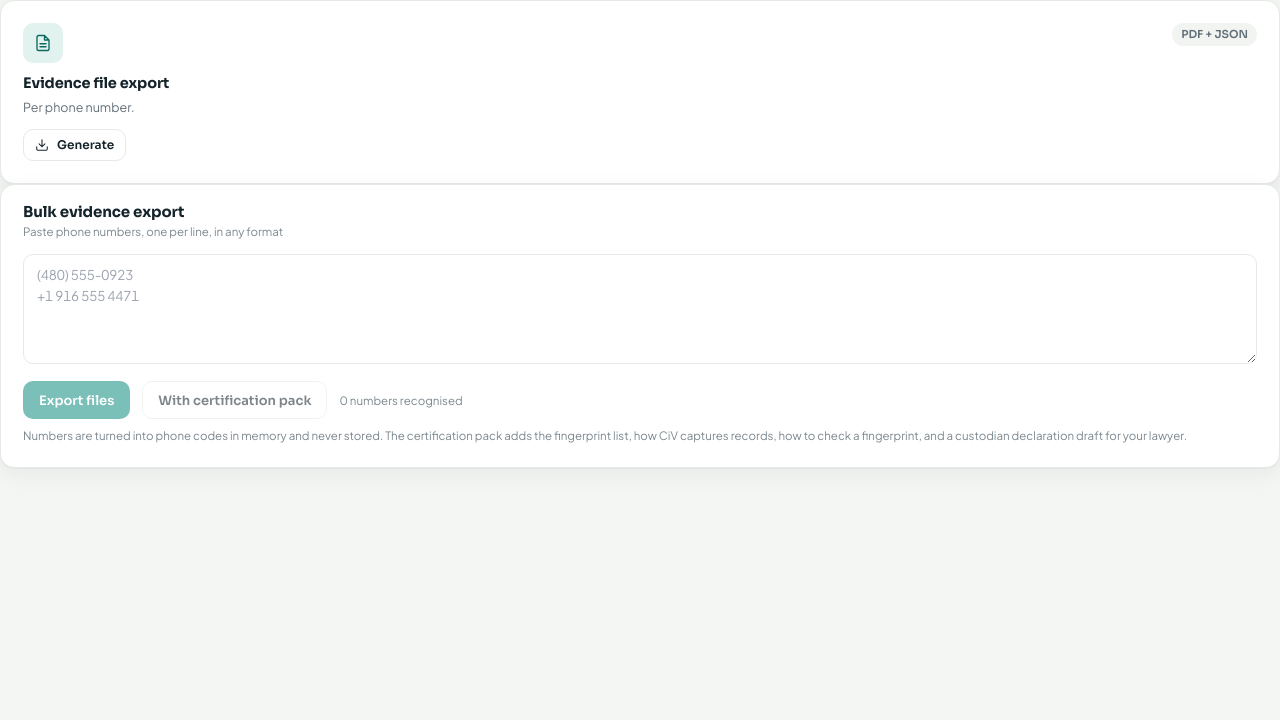
Scenario: report cards that are not made from a card (owner 2026-10-30) › Generate on the evidence file takes you to the bulk export box
The width and height of the screenshot is (1280, 720).
Step 1. Click the button "Generate" → (75, 145), box [23,129,126,161]
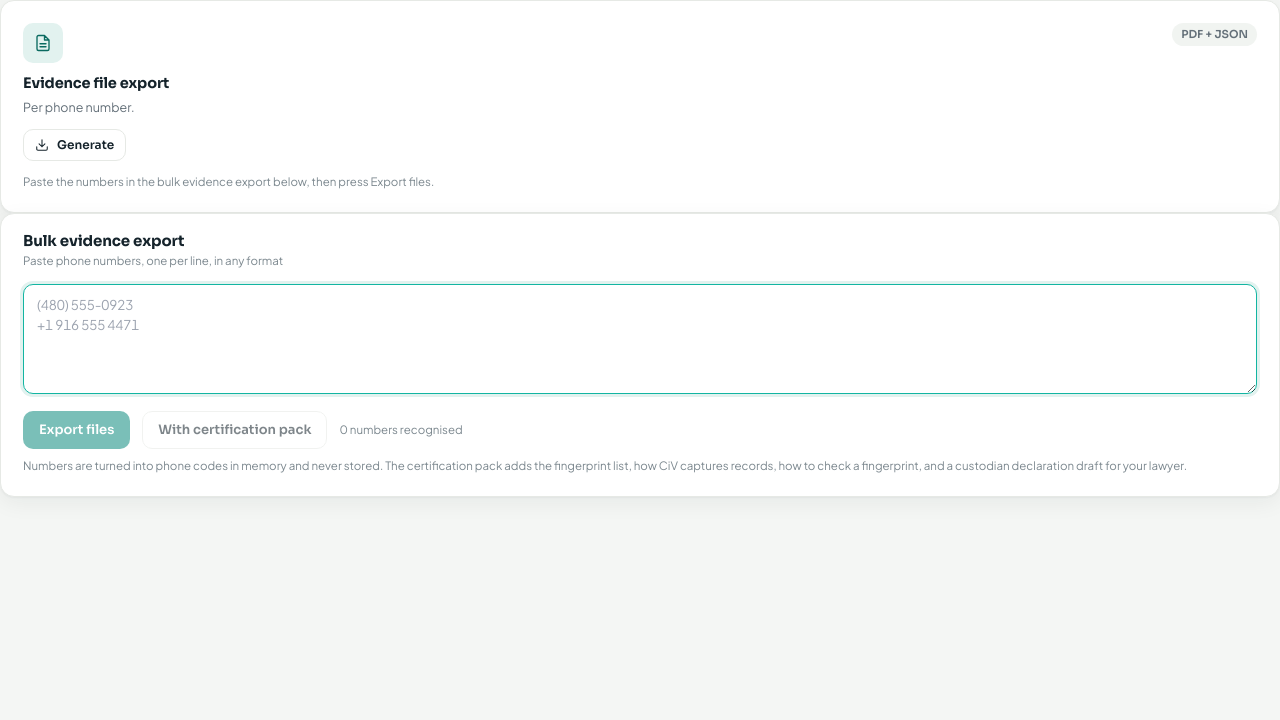
Now the text "Paste the numbers in the bulk evidence export below, then press Export files." is shown, box [23,174,434,189]
